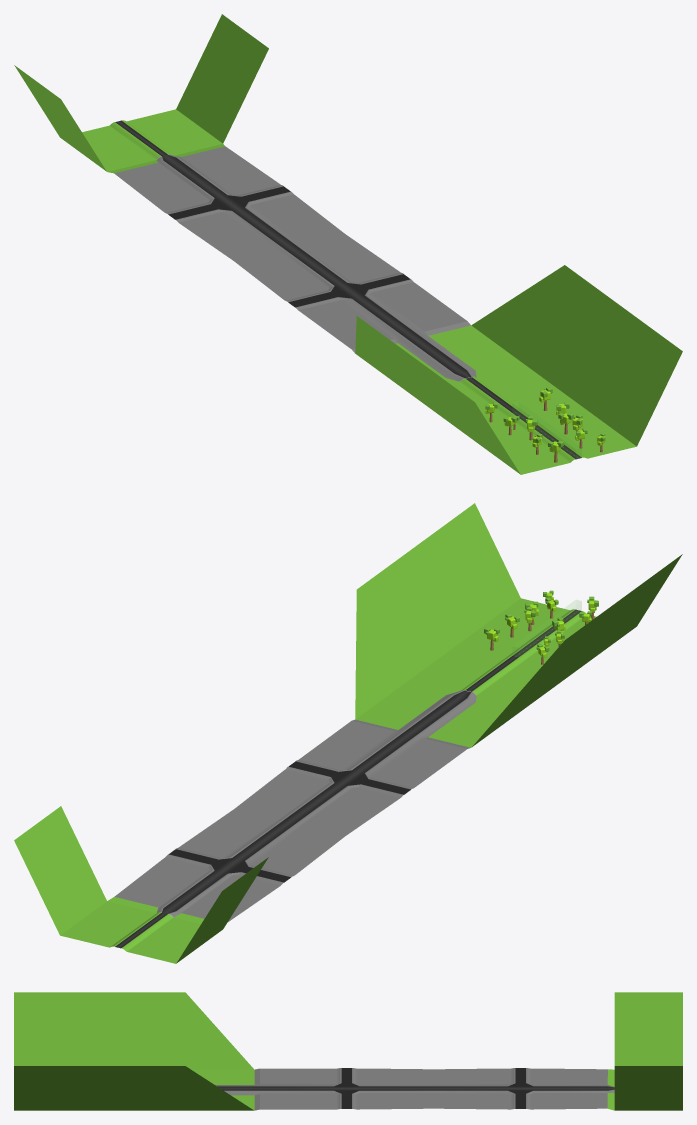
Rendered from IDG_ST_CHUNK_03.fbx.
3 views of the same model, one above another, from view 1: azimuth 30°, elevation 25°; view 2: azimuth 150°, elevation 25°; view 3: azimuth 270°, elevation 25° (orthographic). The views are drawn at different scales.
Parts seen in each view (by area): view 1: IGD_ST_CHUNK_LEVEL, IGD_ST_TREES, IGD_ST_ROAD_TRIGGER; view 2: IGD_ST_CHUNK_LEVEL, IGD_ST_TREES, IGD_ST_ROAD_TRIGGER; view 3: IGD_ST_CHUNK_LEVEL.
Part boxes in pixels (bbox=[...]): IGD_ST_CHUNK_LEVEL: bbox=[14, 14, 682, 474]; IGD_ST_TREES: bbox=[485, 387, 605, 462]; IGD_ST_ROAD_TRIGGER: bbox=[513, 402, 581, 458]; IGD_ST_CHUNK_LEVEL: bbox=[14, 503, 682, 963]; IGD_ST_TREES: bbox=[484, 590, 598, 664]; IGD_ST_ROAD_TRIGGER: bbox=[513, 600, 581, 656]; IGD_ST_CHUNK_LEVEL: bbox=[14, 992, 682, 1110].
Bounding box in the file's own units: 9229 × 3561 × 35411.
